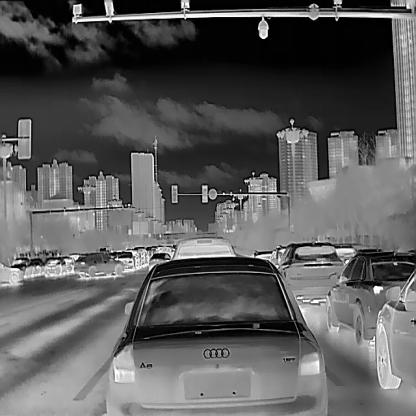car: (105, 256, 326, 415), (326, 247, 415, 345), (374, 268, 416, 388), (275, 239, 343, 294), (70, 250, 124, 277), (172, 236, 236, 258), (0, 260, 23, 284), (10, 256, 34, 277), (45, 258, 65, 274), (119, 249, 134, 269)
